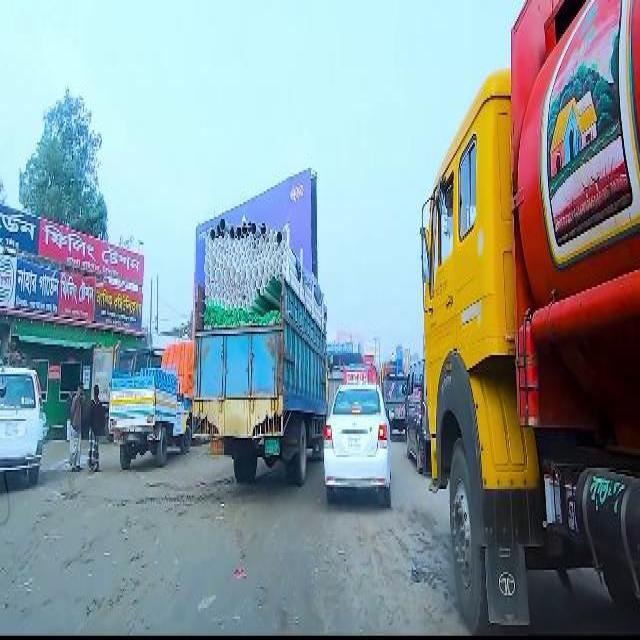car: (322, 389, 392, 506)
minivan: (0, 364, 46, 481), (404, 361, 426, 470)
pickup: (108, 364, 192, 466)
truck: (419, 2, 639, 629), (193, 218, 321, 494)
